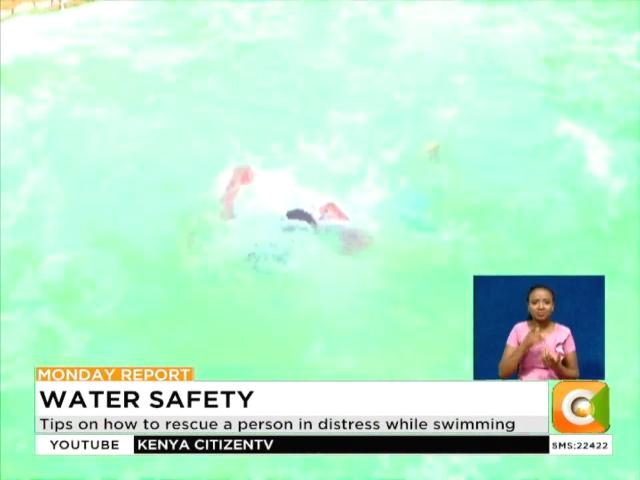drowning: (215, 148, 370, 268)
